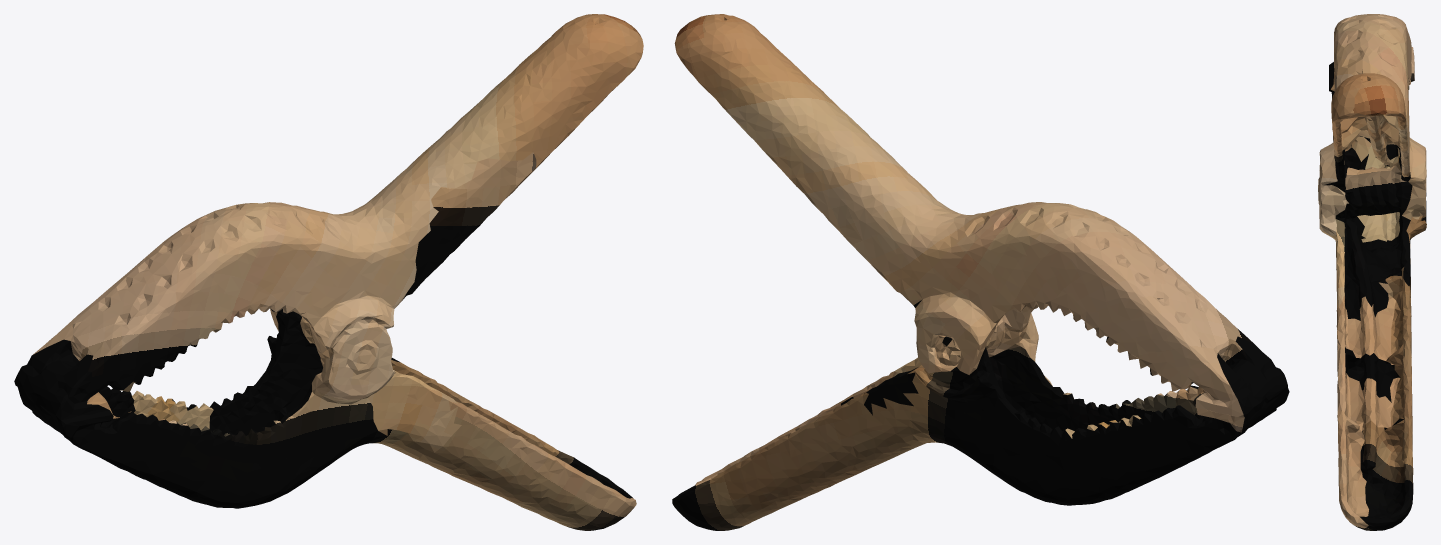
3 renders of one model, left to right at view 1: azimuth 30°, elevation 25°; view 2: azimuth 150°, elevation 25°; view 3: azimuth 270°, elevation 25°, orthographic. The views are drawn at different scales.
Bounding box in the file's own units: 0.2026 × 0.1652 × 0.0363.
